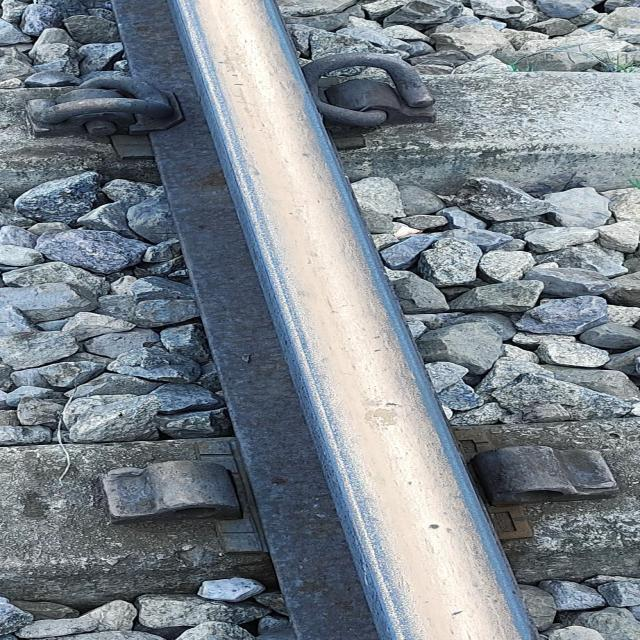Good Fasteners: (301, 54, 435, 127), (28, 74, 181, 135)
Missing Fastener: (47, 445, 283, 534), (475, 441, 632, 526)
